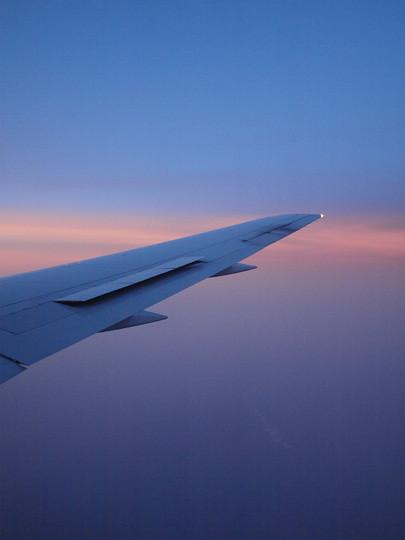plane: (1, 211, 325, 387)
